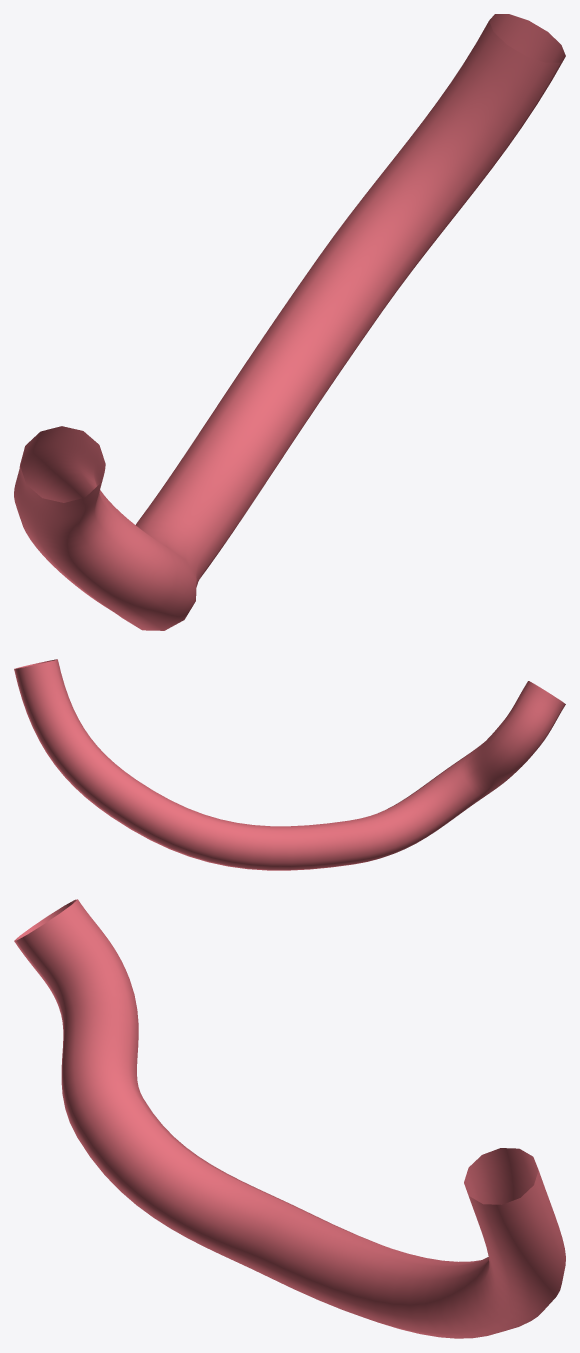
The picture shows the model from 3 angles, top to bottom: view 1: azimuth 30°, elevation 25°; view 2: azimuth 150°, elevation 25°; view 3: azimuth 270°, elevation 25°; orthographic projection. The views are drawn at different scales.
Visible parts, largest first — view 1: ZA_9216051eec5506db; view 2: ZA_9216051eec5506db; view 3: ZA_9216051eec5506db.
Boxes of the visible parts, left/top/right/bottom form: ZA_9216051eec5506db: left=14, top=14, right=565, bottom=630; ZA_9216051eec5506db: left=14, top=659, right=565, bottom=870; ZA_9216051eec5506db: left=14, top=899, right=565, bottom=1338.
Bounding box in the file's own units: 0.053 × 0.0235 × 0.0359.
